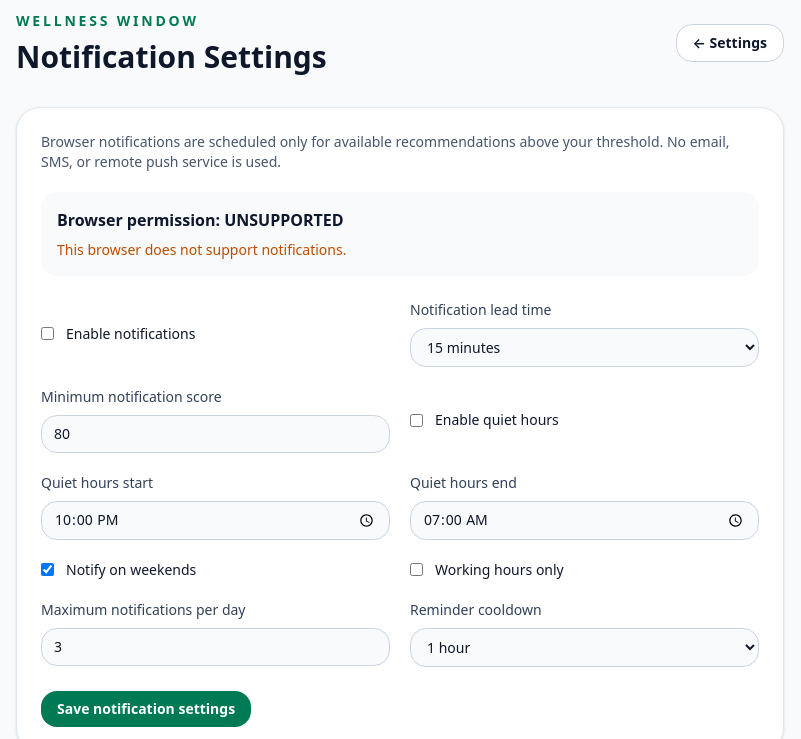
it: NotificationSettingsPage › shows unsupported state and saves notification preferences
Expected: the text "Browser permission: UNSUPPORTED" is shown, [57, 209, 344, 231]
Expected: the text "This browser does not support notifications." is shown, [57, 240, 346, 259]
Click the checkbox labelled "Enable notifications": [48, 334] box [41, 327, 54, 340]
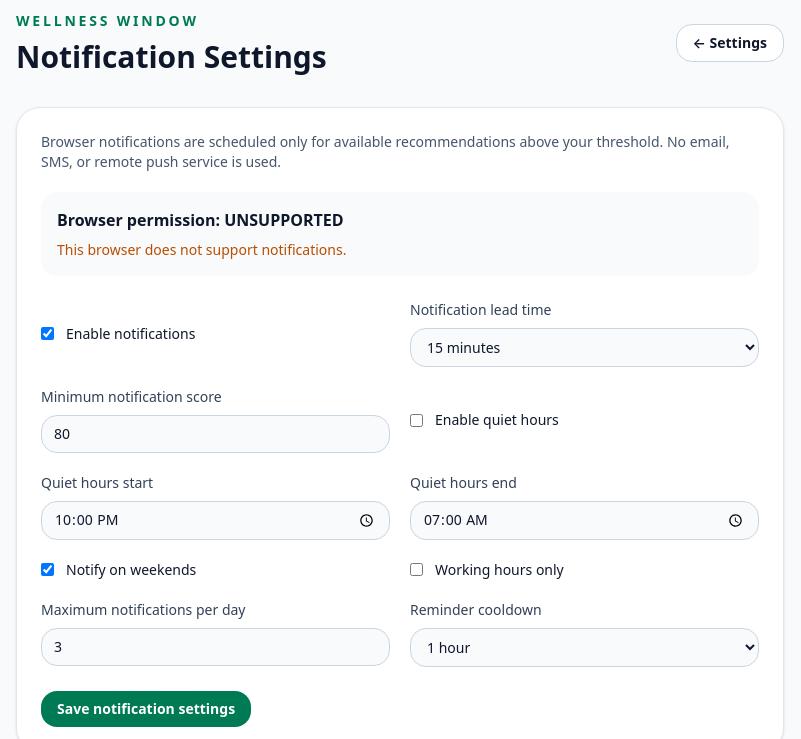
Replace the text in the number field labelled "Minimum notification score" with "85": [216, 434] box [41, 415, 390, 453]
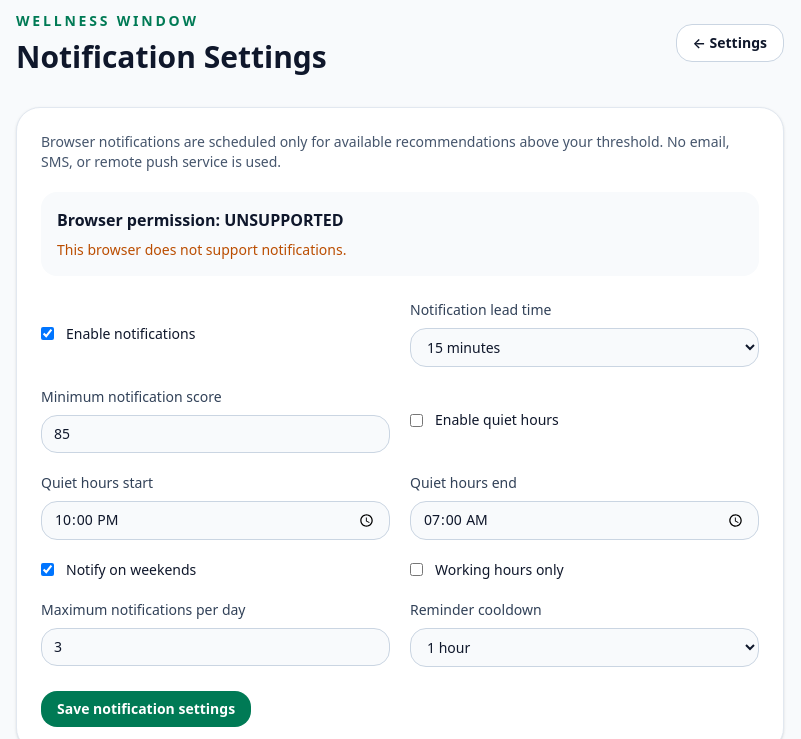
Click the button "Save notification settings": [146, 709] box [41, 691, 251, 727]
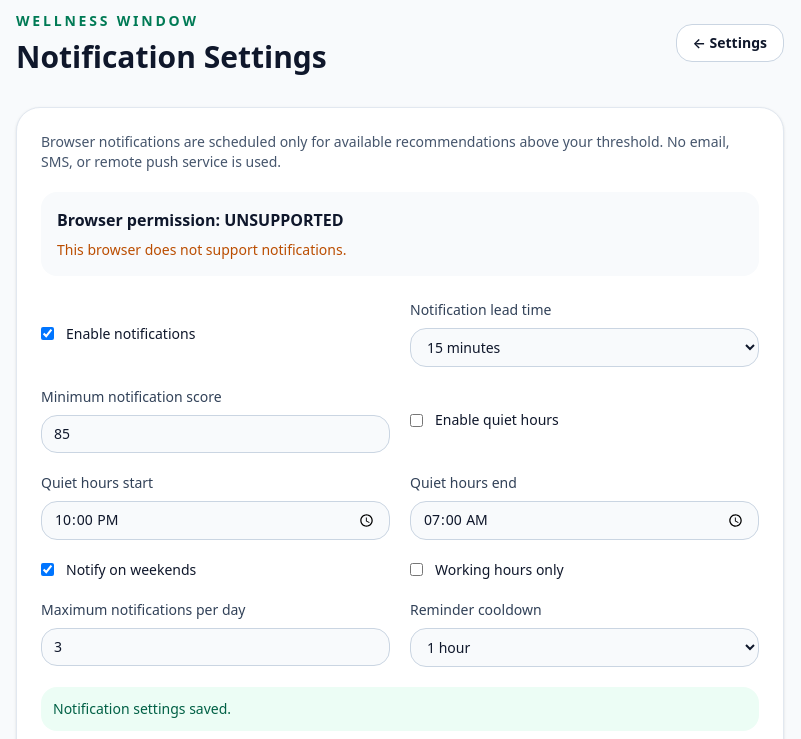
Now the text "Notification settings saved." is shown, box [41, 687, 759, 731]
